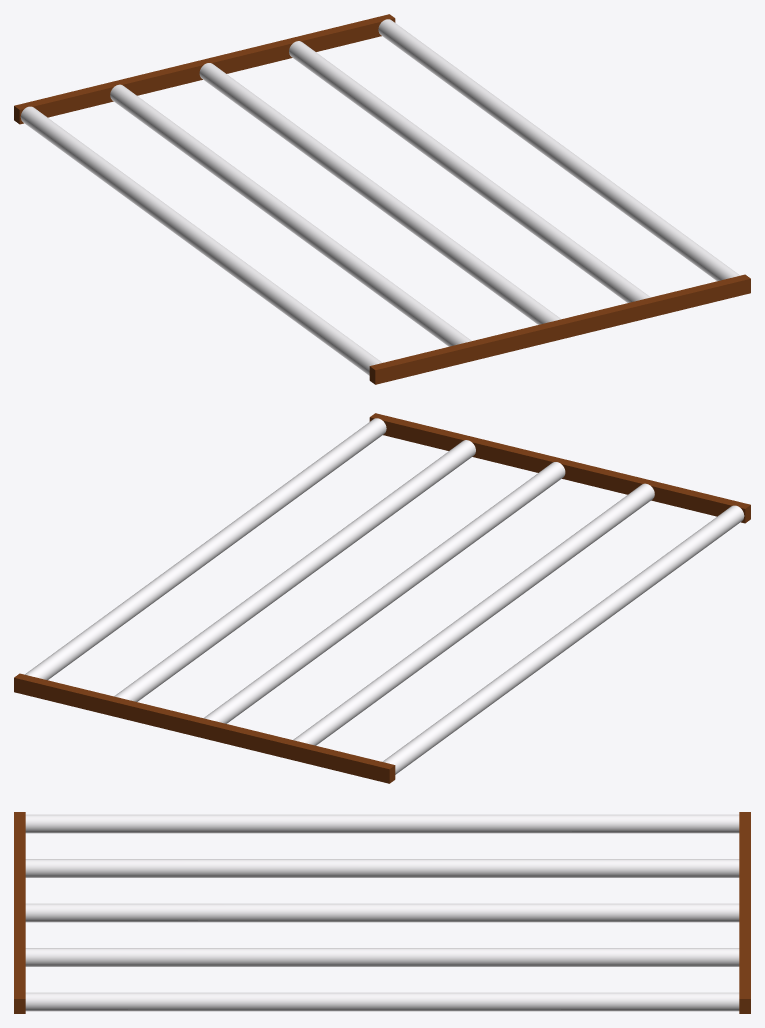
File: cellSedimentation.glb
3 views of the same model, one above another, from view 1: azimuth 30°, elevation 25°; view 2: azimuth 150°, elevation 25°; view 3: azimuth 270°, elevation 25° (orthographic).
Parts seen in each view (by area): view 1: Cylinder.007, Cylinder.008, Cylinder.010, Cylinder.006, Cylinder.009, Cube, Cube.001; view 2: Cylinder.007, Cylinder.008, Cylinder.010, Cylinder.006, Cylinder.009, Cube.001, Cube; view 3: Cylinder.006, Cylinder.007, Cylinder.010, Cylinder.008, Cylinder.009, Cube.001, Cube.
Boxes of the visible parts, x1=… form: Cylinder.007: x1=20, y1=106, x2=382, y2=375; Cylinder.008: x1=110, y1=84, x2=471, y2=346; Cylinder.010: x1=199, y1=63, x2=561, y2=324; Cylinder.006: x1=378, y1=19, x2=739, y2=281; Cylinder.009: x1=289, y1=41, x2=650, y2=302; Cube: x1=369, y1=274, x2=750, y2=384; Cube.001: x1=14, y1=14, x2=395, y2=124; Cylinder.007: x1=382, y1=505, x2=744, y2=774; Cylinder.008: x1=293, y1=483, x2=654, y2=745; Cylinder.010: x1=203, y1=462, x2=565, y2=723; Cylinder.006: x1=25, y1=418, x2=386, y2=680; Cylinder.009: x1=114, y1=440, x2=475, y2=701; Cube.001: x1=14, y1=673, x2=395, y2=783; Cube: x1=369, y1=413, x2=750, y2=523; Cylinder.006: x1=25, y1=992, x2=739, y2=1011; Cylinder.007: x1=25, y1=814, x2=739, y2=833; Cylinder.010: x1=25, y1=903, x2=739, y2=922; Cylinder.008: x1=25, y1=859, x2=739, y2=877; Cylinder.009: x1=25, y1=948, x2=739, y2=966; Cube.001: x1=739, y1=812, x2=750, y2=1013; Cube: x1=14, y1=812, x2=25, y2=1013.
Size of the model in its own units: 189 by 8 by 315.
